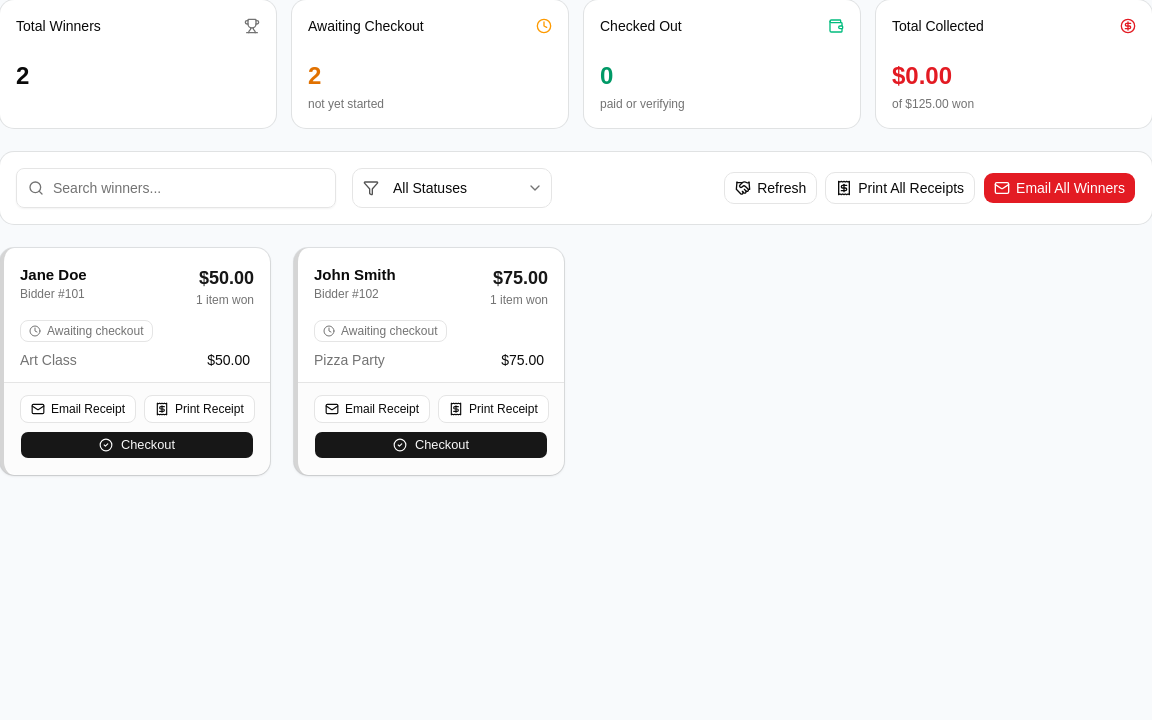
Checkout › Mark paid / payment method dialog › opens the payment method dialog showing the bidder's name and total
Expected: the text "Jane Doe" is shown, [20, 264, 87, 286]
Click the button "Checkout" below "Art Class": {"x": 137, "y": 445} [20, 431, 254, 459]
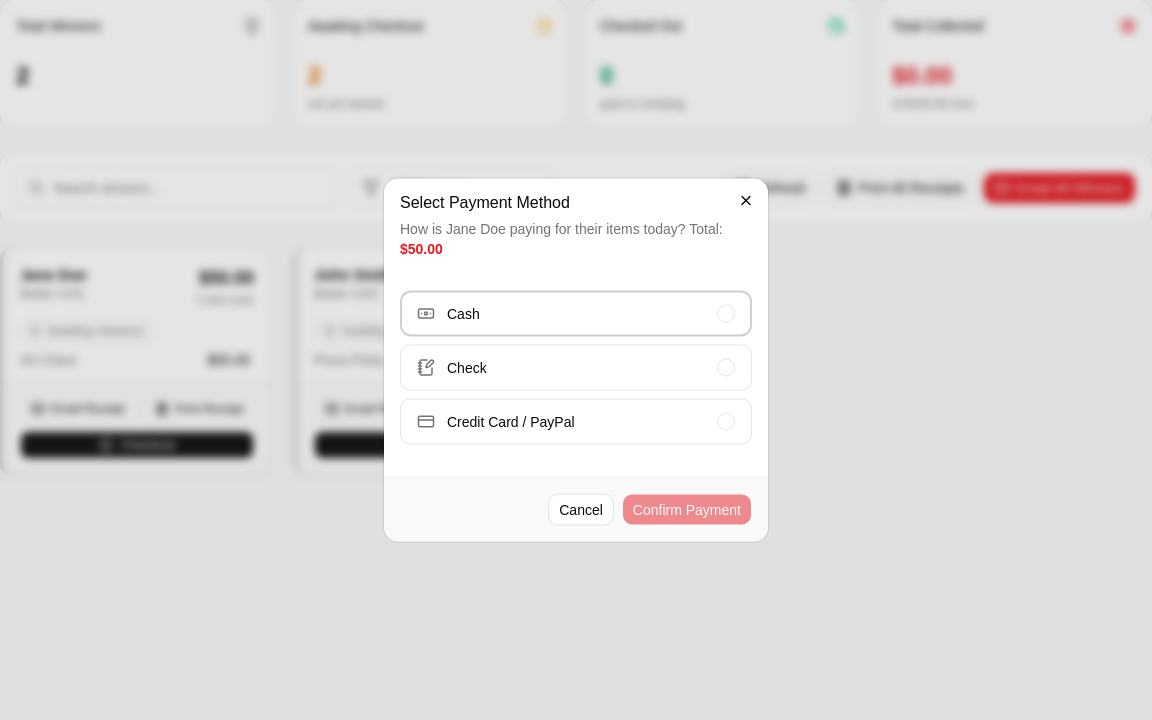
Now the heading "Select Payment Method" is shown, box [400, 194, 570, 210]
Now the text "How is Jane Doe paying for their items today? Total: $50.00" is shown, box [400, 218, 752, 258]
Now the text "$50.00" is shown, box [400, 240, 443, 256]
